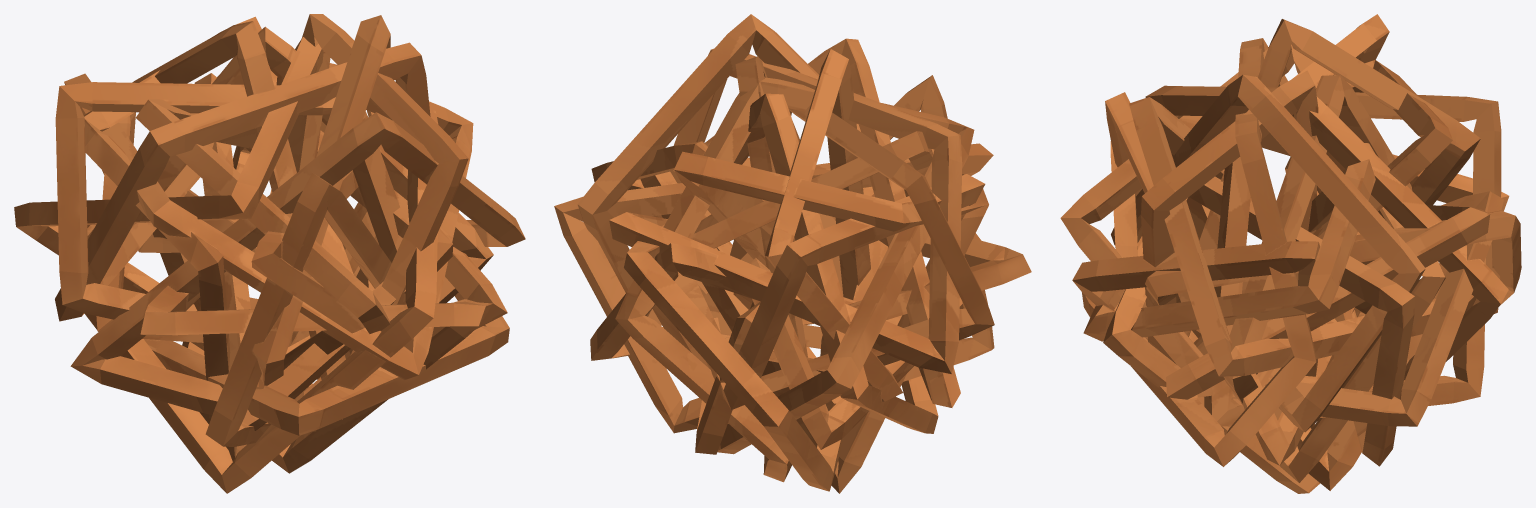
Rendered from Web Ball.fbx.
3 renders of one model, left to right at view 1: azimuth 30°, elevation 25°; view 2: azimuth 150°, elevation 25°; view 3: azimuth 270°, elevation 25°, orthographic. The views are drawn at different scales.
Visible parts, largest first — view 1: Web; view 2: Web; view 3: Web.
Boxes of the visible parts, x1=… form: Web: x1=14, y1=14, x2=525, y2=493; Web: x1=554, y1=14, x2=1031, y2=493; Web: x1=1060, y1=14, x2=1521, y2=493.
Bounding box in the file's own units: 116 × 123 × 113.
